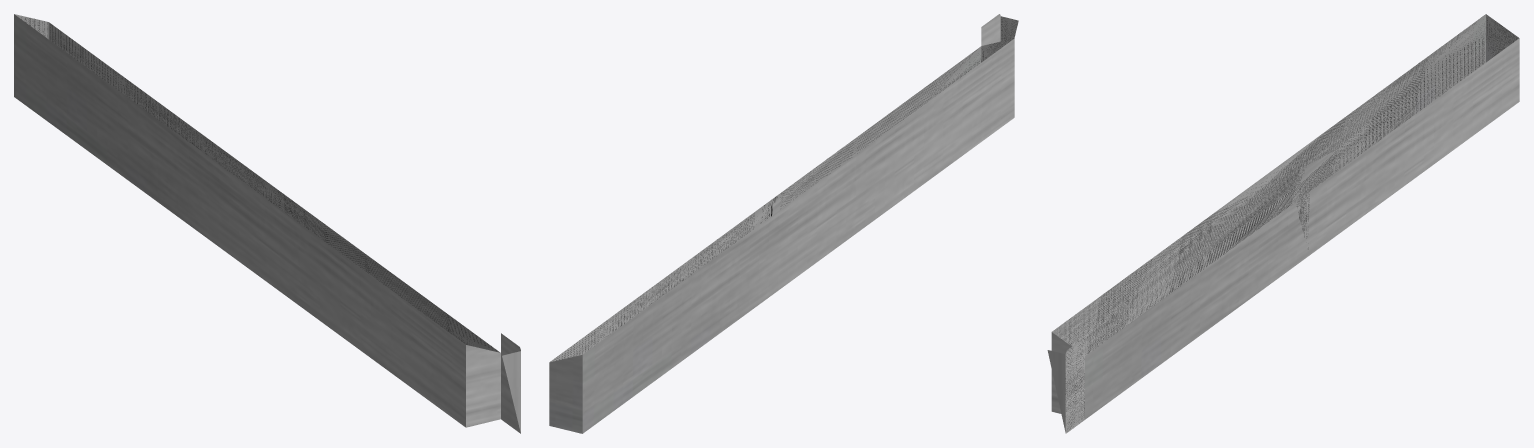
3 renders of one model, left to right at view 1: azimuth 30°, elevation 25°; view 2: azimuth 150°, elevation 25°; view 3: azimuth 330°, elevation 25°, orthographic. The views are drawn at different scales.
Size of the model in its own units: 0.0289 by 0.0682 by 0.677.
